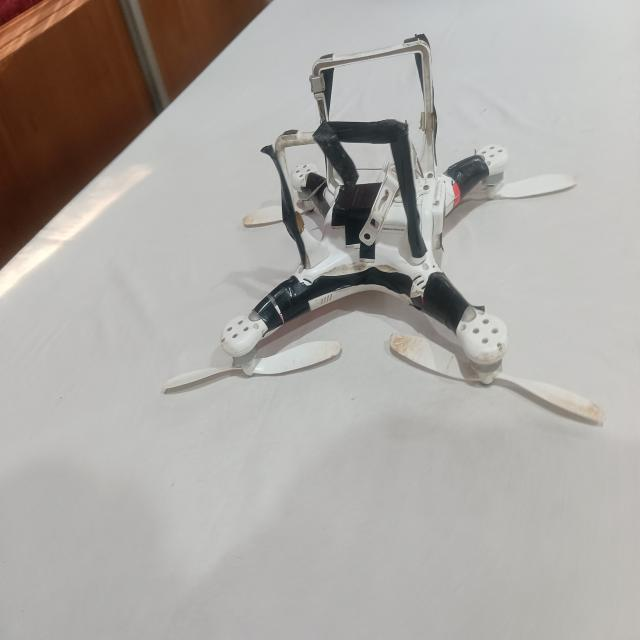drone: (199, 1, 554, 405)
